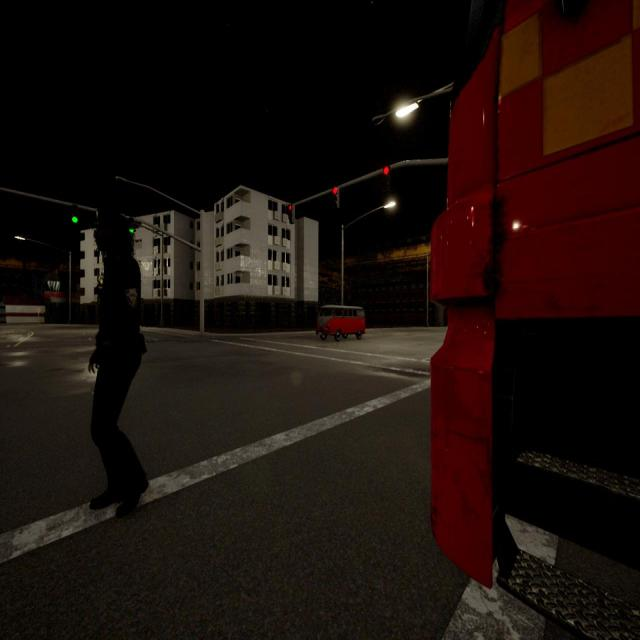Pedestrian: (88, 213, 148, 518)
Traffic_Signs: (36, 308, 40, 312)
Vehicle: (436, 5, 640, 640), (316, 307, 365, 340)
traffic_light: (333, 187, 339, 208), (288, 204, 294, 223), (72, 206, 78, 223), (384, 166, 389, 185), (129, 217, 134, 233)
